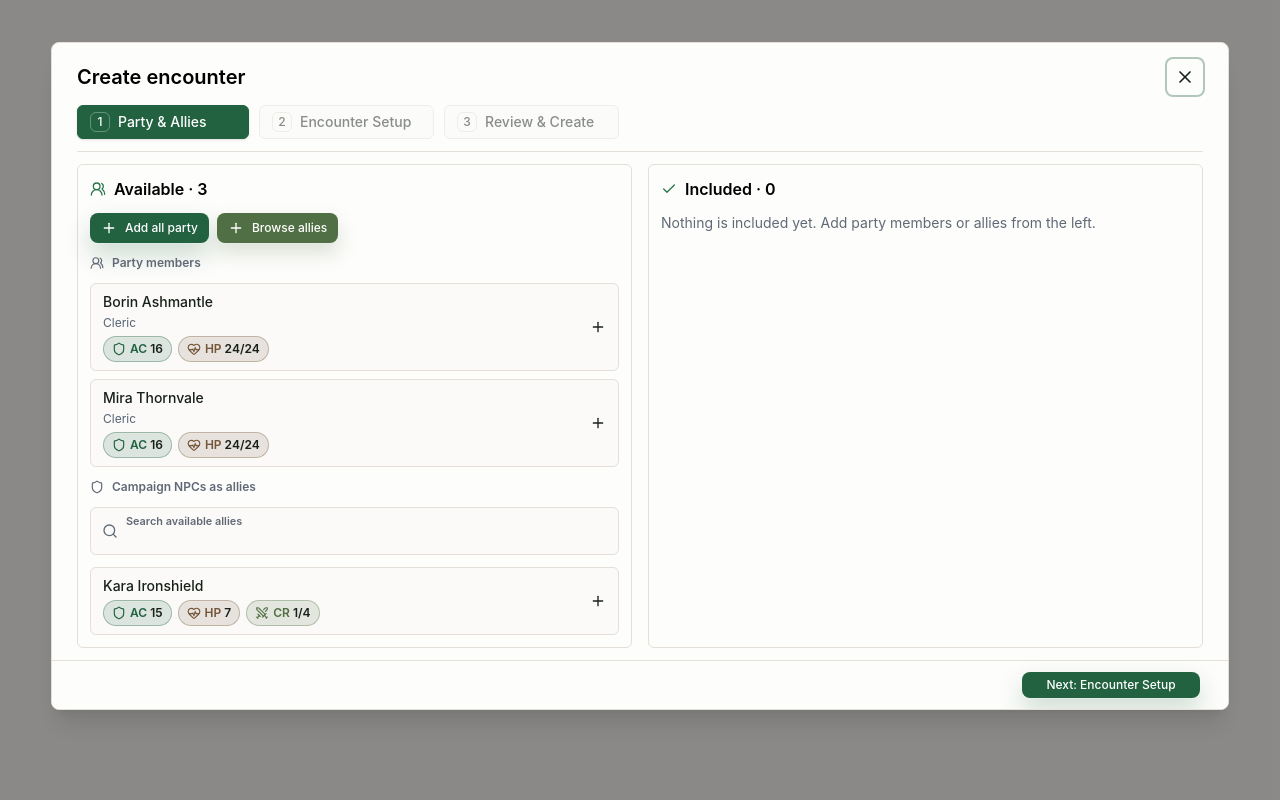
Test case: CampaignEncounterCreateDialog › uses 2024 difficulty names and budget evidence in previews
Click the button "Add all party" at (149, 228), box left=90, top=213, right=209, bottom=243
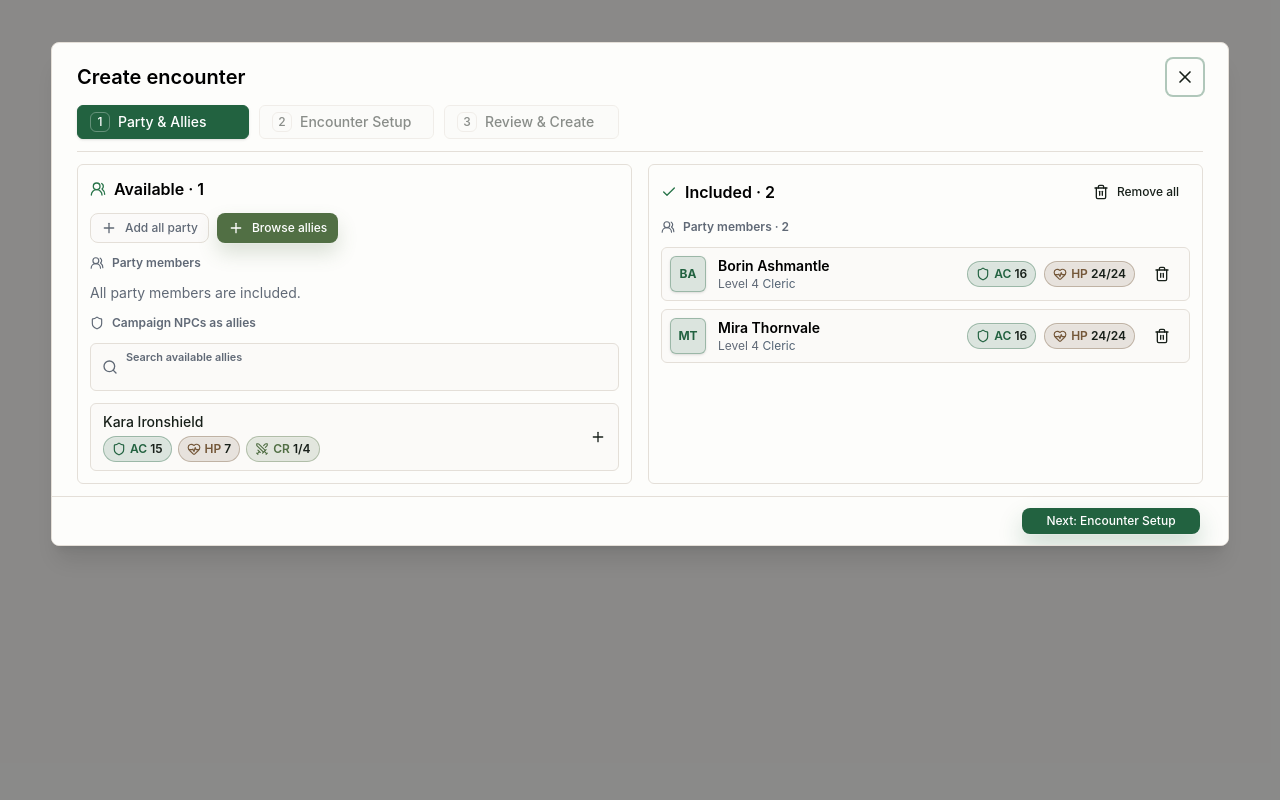
Click the button "Next: Encounter Setup" at (1111, 521), box left=1022, top=508, right=1200, bottom=534
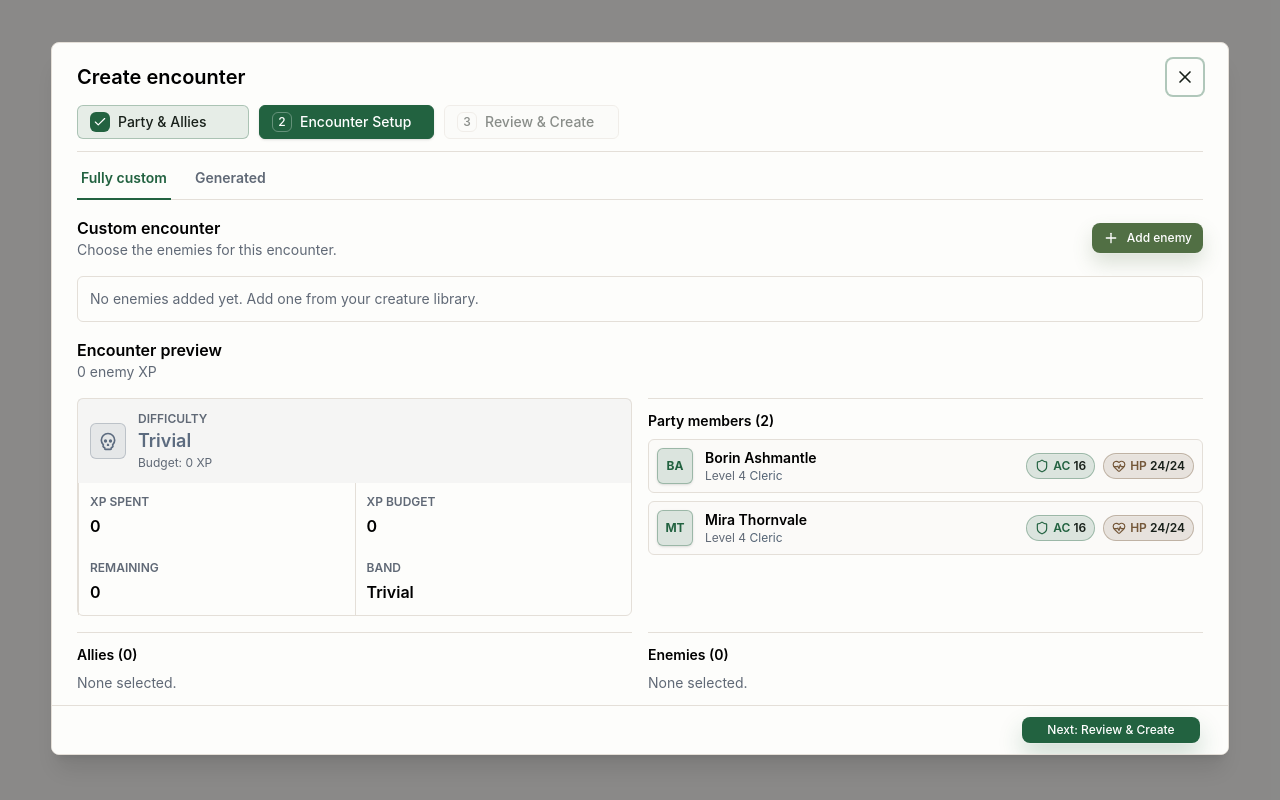
Click the tab "Generated" at (230, 182), box left=191, top=164, right=270, bottom=200
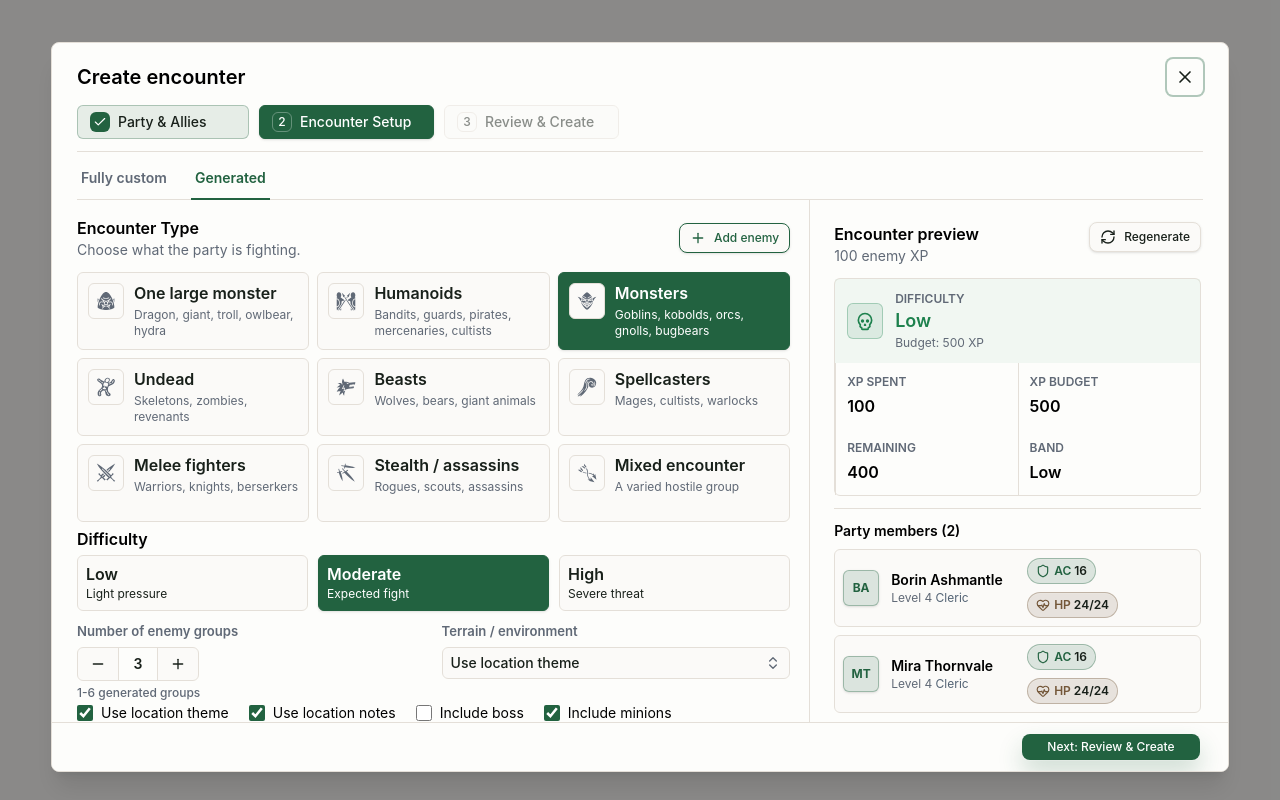
Now the heading "Encounter preview" is shown, box left=834, top=222, right=979, bottom=246
Now the button "Low Light pressure" is shown, box left=77, top=555, right=308, bottom=611
Now the button "Moderate Expected fight" is shown, box left=318, top=555, right=549, bottom=611
